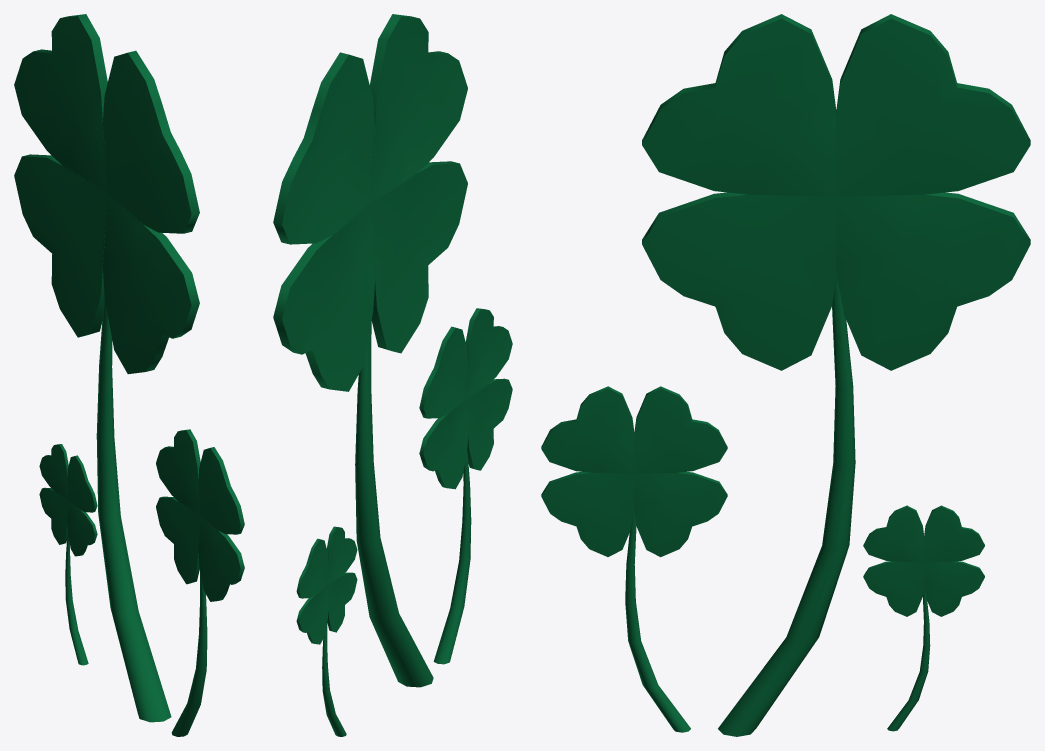
File: MM_Clovers.fbx
3 views of the same model, side by side, from view 1: azimuth 30°, elevation 25°; view 2: azimuth 150°, elevation 25°; view 3: azimuth 270°, elevation 25° (orthographic). The views are drawn at different scales.
Parts seen in each view (by area): view 1: MM_Clovers; view 2: MM_Clovers; view 3: MM_Clovers.
Part boxes in pixels (x1,y1,x2,y2): MM_Clovers: (14, 14, 244, 736); MM_Clovers: (273, 14, 512, 736); MM_Clovers: (541, 14, 1030, 736).
Size of the model in its own units: 8.29 by 170 by 106.
